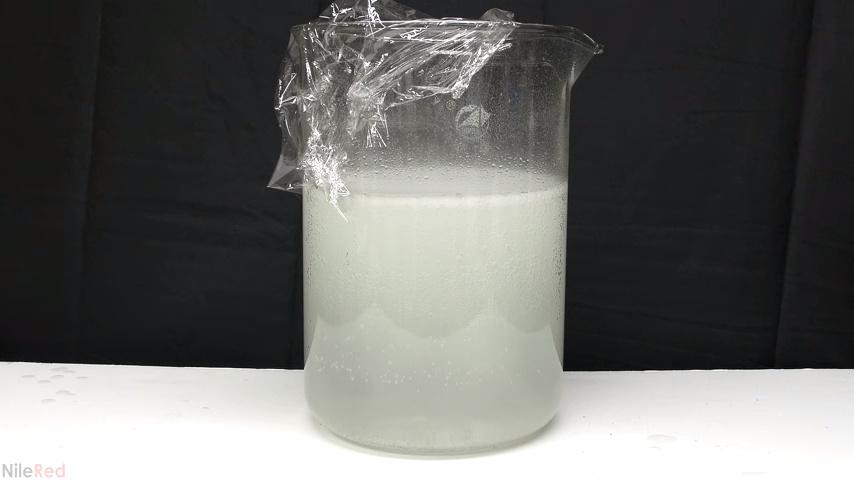Beaker: (278, 15, 607, 458)
